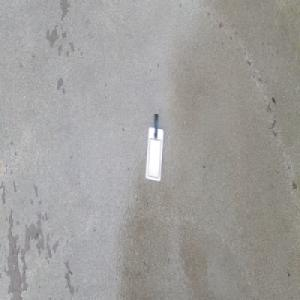LuggageTag: (144, 113, 165, 183)
